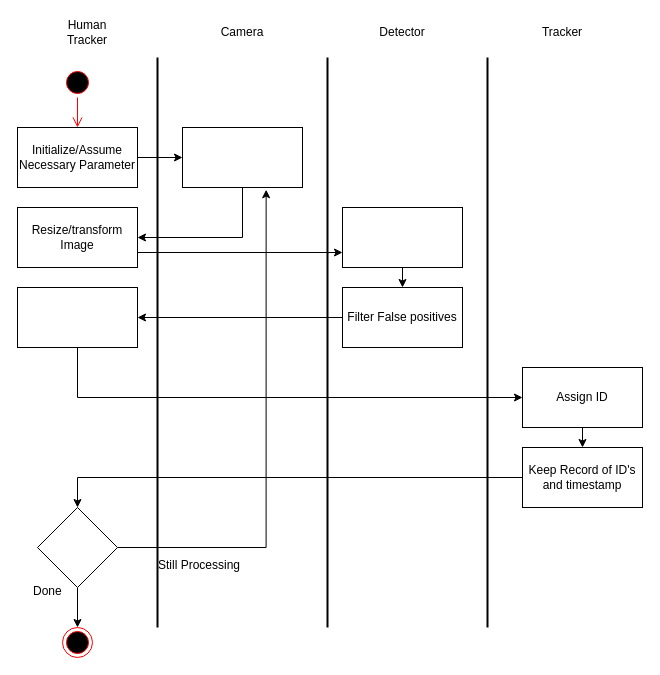
The diagram is 660 pixels wide and 675 high, and some of its shapes have lost their labels. The shapes that lost their labels are listed below. From the top down, each one's centre as x and y in pixels, then its label:
point (242, 157): Get Image Input
point (402, 237): Detect Human Object
point (77, 317): Transform to Robot Frame
